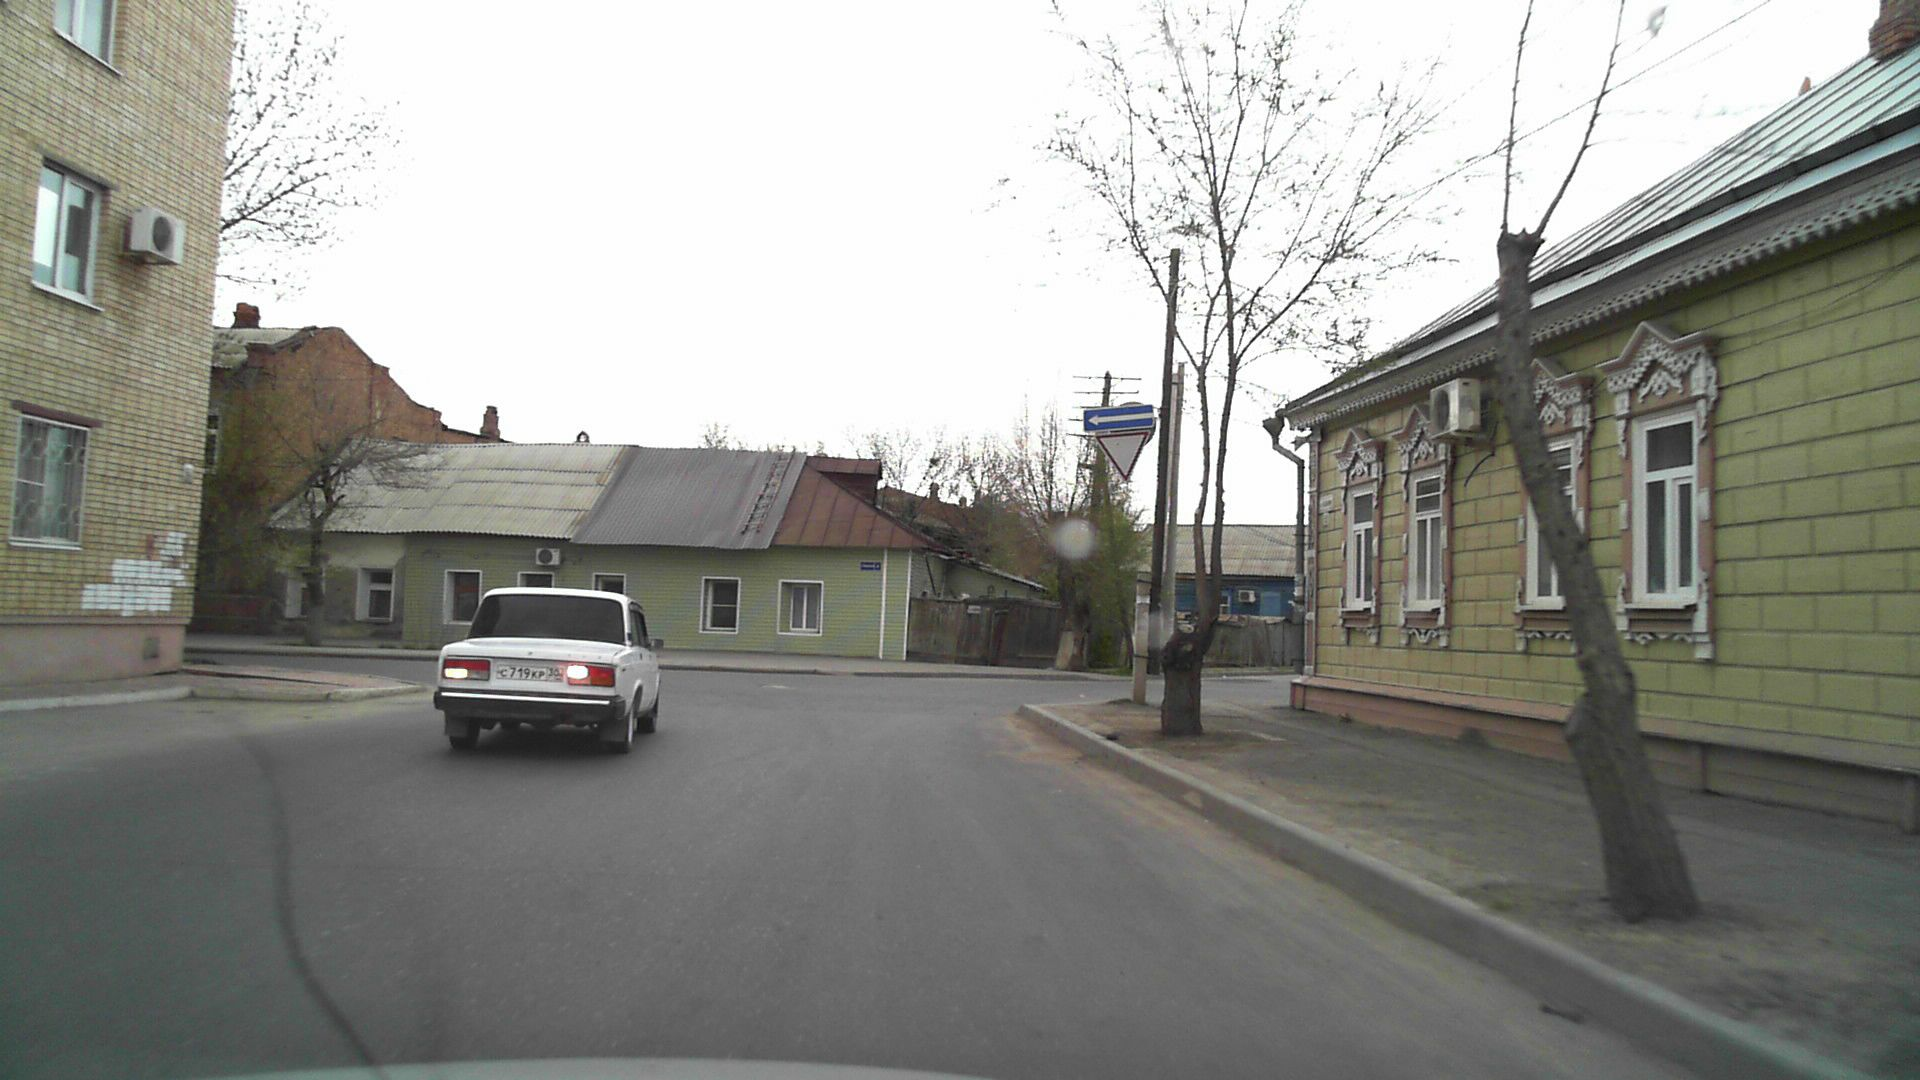One-Way Traffic: (1084, 405, 1153, 433)
